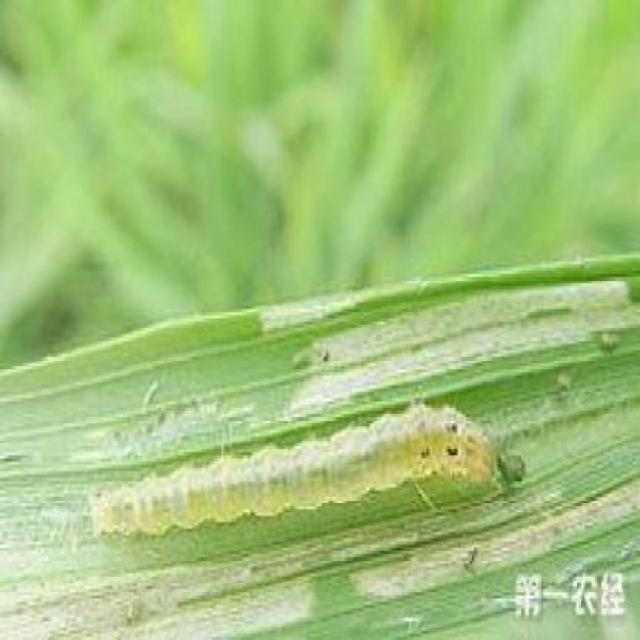leaf-folder: (78, 392, 547, 534)
